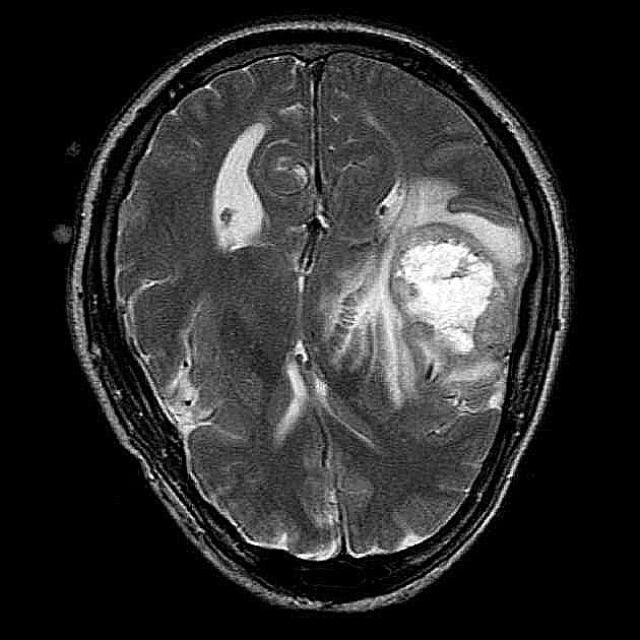Tumor-Cell: (403, 218, 510, 374)
